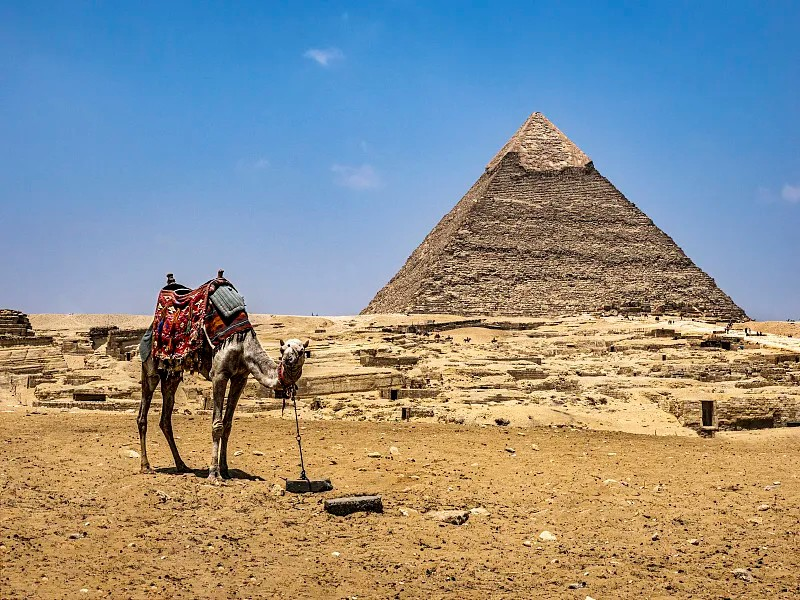Pyramid: (356, 113, 754, 323)
